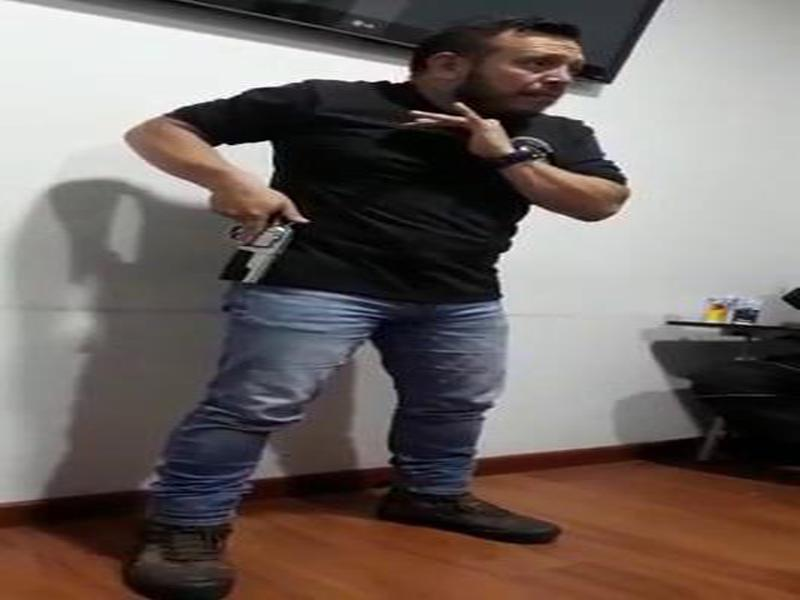Revolver: (221, 203, 307, 314)
